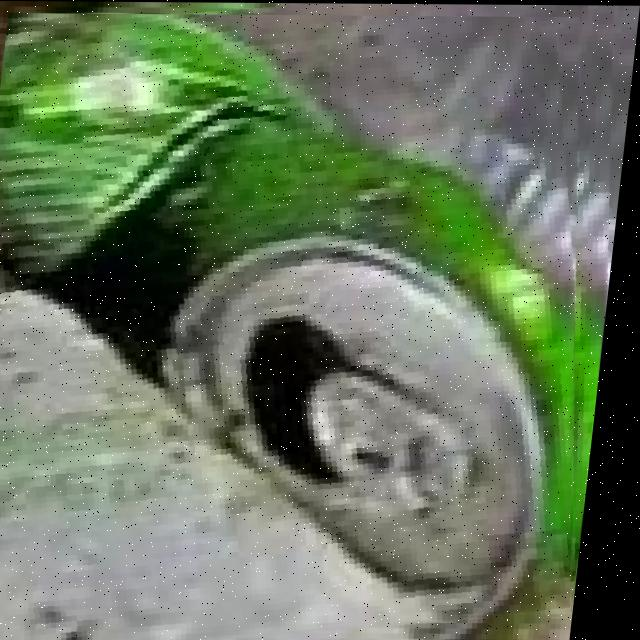can: (0, 13, 590, 616)
